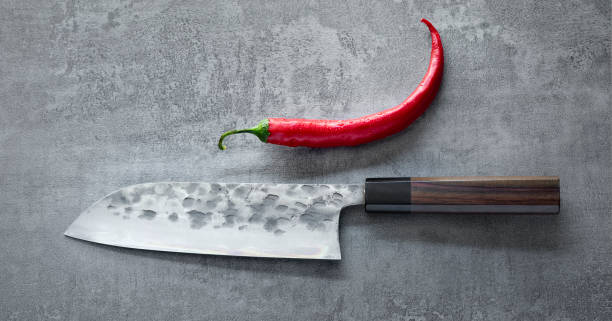knife: (60, 173, 562, 262)
